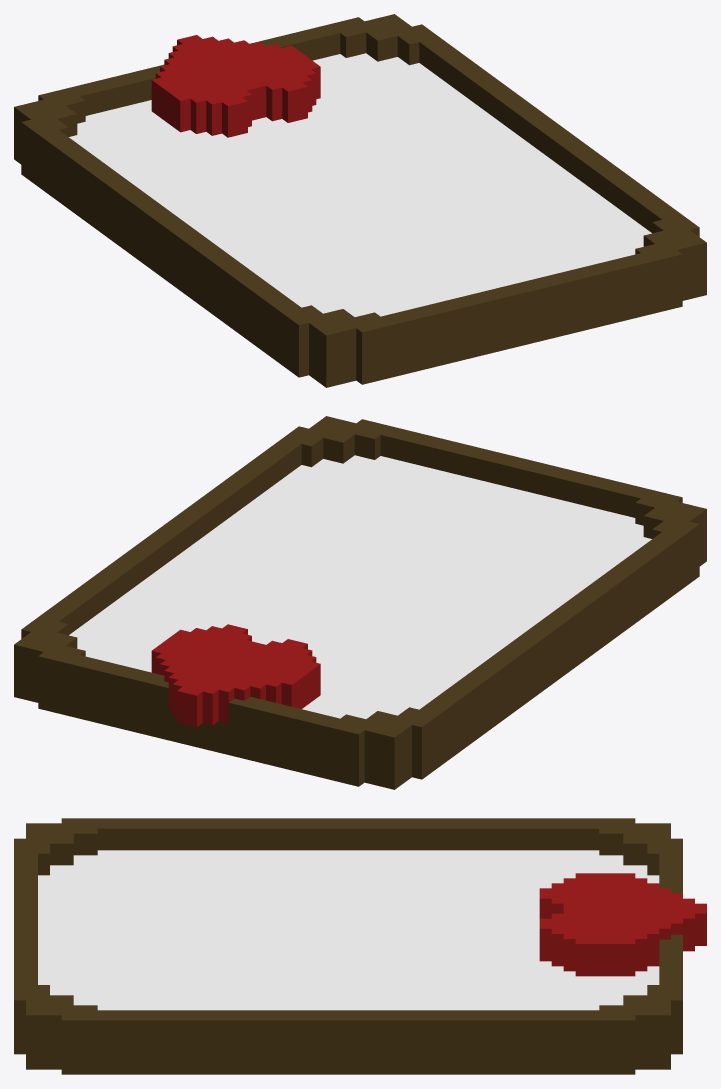
Rendered from card_base.fbx.
3 renders of one model, top to bottom at view 1: azimuth 30°, elevation 25°; view 2: azimuth 150°, elevation 25°; view 3: azimuth 270°, elevation 25°, orthographic. The views are drawn at different scales.
Parts seen in each view (by area): view 1: background, cube_13, cube_4, cube_3, cube_5, cube_1, cube_2, cube_7, cube_29, cube, cube_6, cube_33 (+12 smaller); view 2: background, cube_4, cube_3, cube_13, cube_1, cube_29, cube, cube_6, cube_7, cube_5, cube_2, cube_30 (+14 smaller); view 3: background, cube_3, cube_4, cube_13, cube_2, cube_6, cube_32, cube_29, cube_7, cube, cube_5, cube_12 (+15 smaller).
Part boxes in pixels (bbox=[...]): background: bbox=[69, 53, 651, 316]; cube_13: bbox=[351, 246, 682, 384]; cube_4: bbox=[21, 117, 318, 377]; cube_3: bbox=[402, 24, 699, 236]; cube_5: bbox=[309, 309, 364, 387]; cube_1: bbox=[38, 64, 163, 115]; cube_2: bbox=[643, 226, 706, 300]; cube_7: bbox=[177, 35, 266, 120]; cube_29: bbox=[249, 17, 369, 60]; cube: bbox=[14, 97, 77, 164]; cube_6: bbox=[355, 14, 417, 61]; cube_33: bbox=[151, 77, 190, 132]; background: bbox=[69, 455, 651, 718]; cube_4: bbox=[402, 519, 699, 779]; cube_3: bbox=[21, 426, 317, 638]; cube_13: bbox=[351, 419, 682, 517]; cube_1: bbox=[228, 696, 369, 786]; cube_29: bbox=[38, 648, 168, 740]; cube: bbox=[360, 711, 417, 789]; cube_6: bbox=[14, 630, 77, 702]; cube_7: bbox=[177, 640, 265, 726]; cube_5: bbox=[643, 499, 706, 566]; cube_2: bbox=[303, 416, 365, 463]; cube_30: bbox=[168, 709, 228, 754]; background: bbox=[38, 850, 659, 1010]; cube_3: bbox=[61, 1010, 635, 1074]; cube_4: bbox=[61, 818, 635, 850]; cube_13: bbox=[14, 838, 37, 1054]; cube_2: bbox=[26, 995, 73, 1069]; cube_6: bbox=[623, 995, 670, 1069]; cube_32: bbox=[575, 939, 635, 976]; cube_29: bbox=[659, 934, 682, 1054]; cube_7: bbox=[563, 903, 706, 945]; cube: bbox=[623, 823, 670, 865]; cube_5: bbox=[26, 823, 73, 865]; cube_12: bbox=[551, 928, 659, 966].
Bounding box in the file's own units: 62.5 × 9.38 × 90.62.
3 materials, 3 textured.
